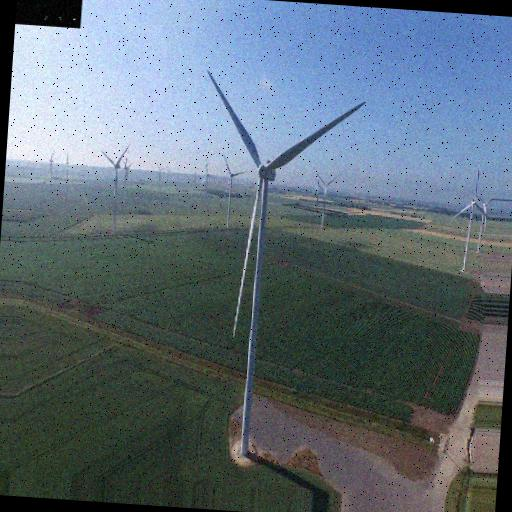wind turbine: (206, 71, 367, 457), (453, 168, 492, 284), (99, 141, 133, 227), (217, 153, 246, 229), (313, 171, 341, 231)
